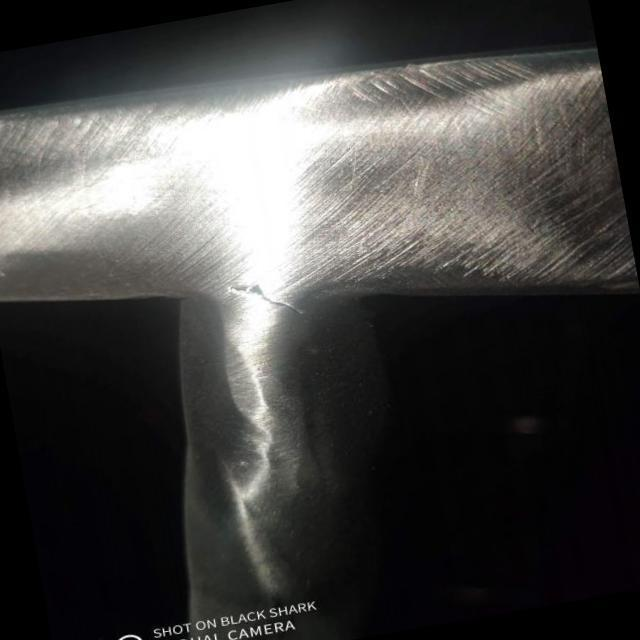defect: (227, 282, 305, 316)
